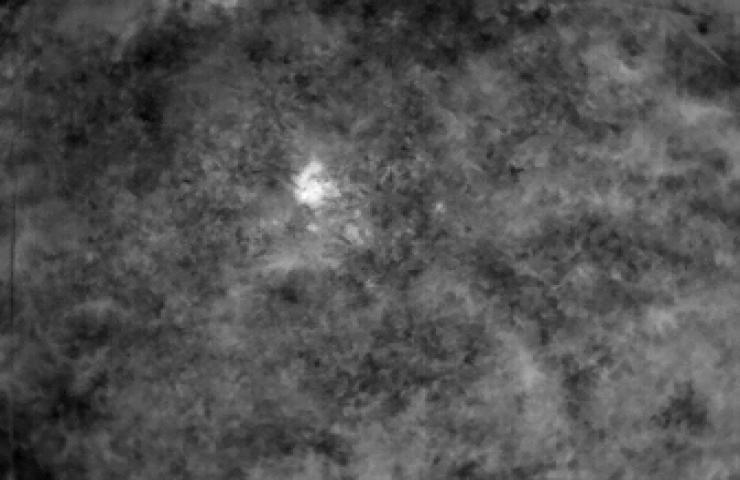landmines: (292, 160, 345, 214)
